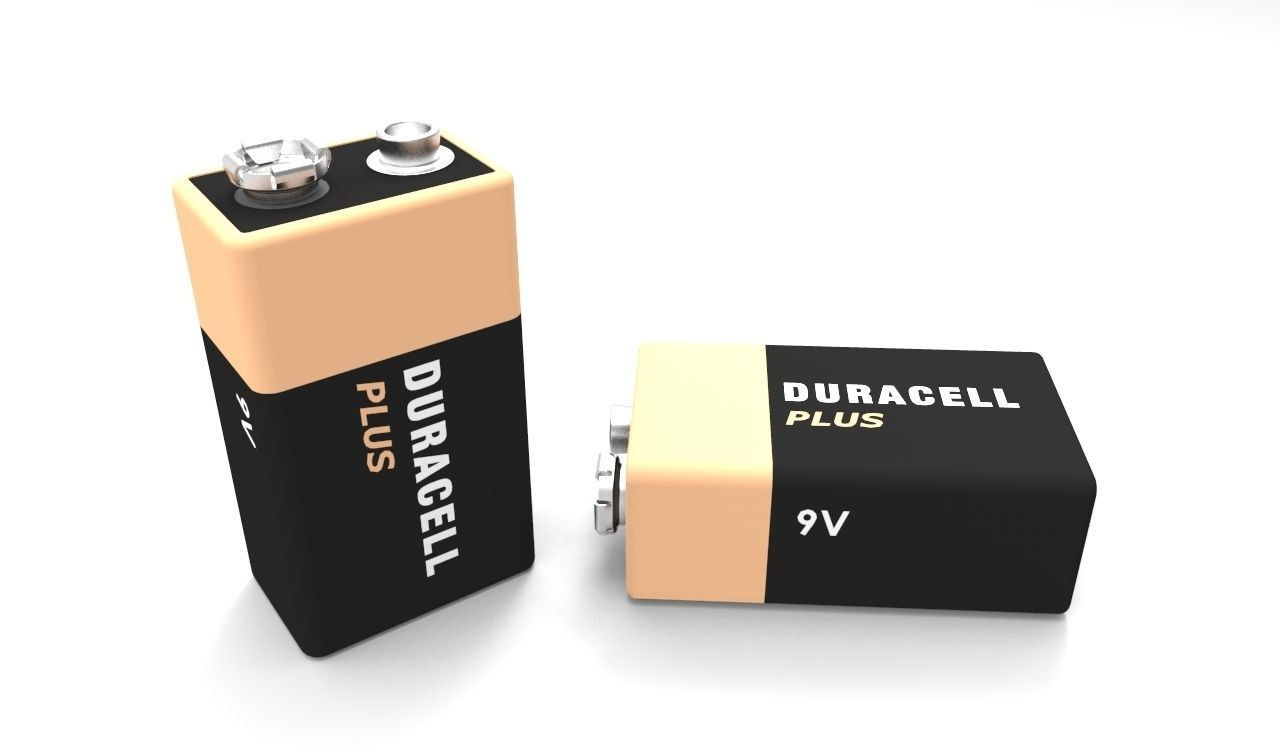Nonrec_Other: (137, 101, 586, 676), (594, 294, 1144, 631)
